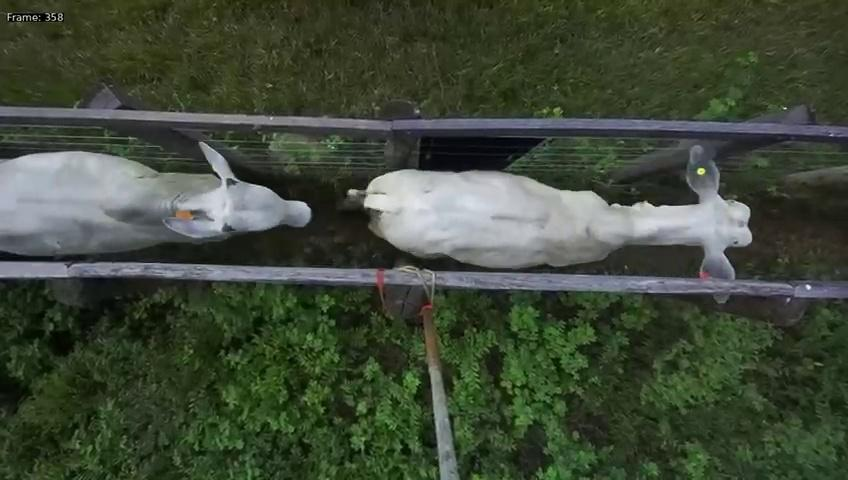cattle: (358, 139, 752, 279), (1, 133, 314, 262)
